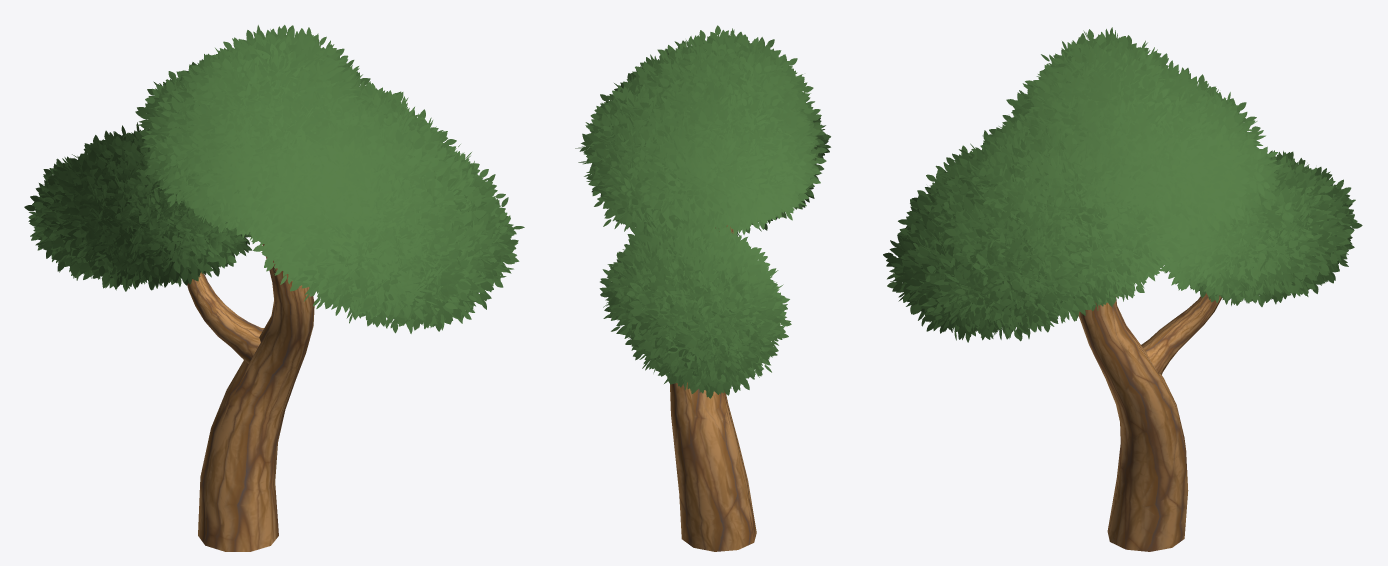
File: Arvore.fbx
3 views of the same model, side by side, from view 1: azimuth 30°, elevation 25°; view 2: azimuth 150°, elevation 25°; view 3: azimuth 270°, elevation 25° (orthographic). The views are drawn at different scales.
Parts seen in each view (by area): view 1: BézierCurve.004; view 2: BézierCurve.004; view 3: BézierCurve.004.
Boxes of the visible parts, x1,y1,x2,y2 form: BézierCurve.004: (24,25,524,551); BézierCurve.004: (575,25,830,551); BézierCurve.004: (883,27,1362,551).
Bounding box in the file's own units: 605 × 871 × 769.
